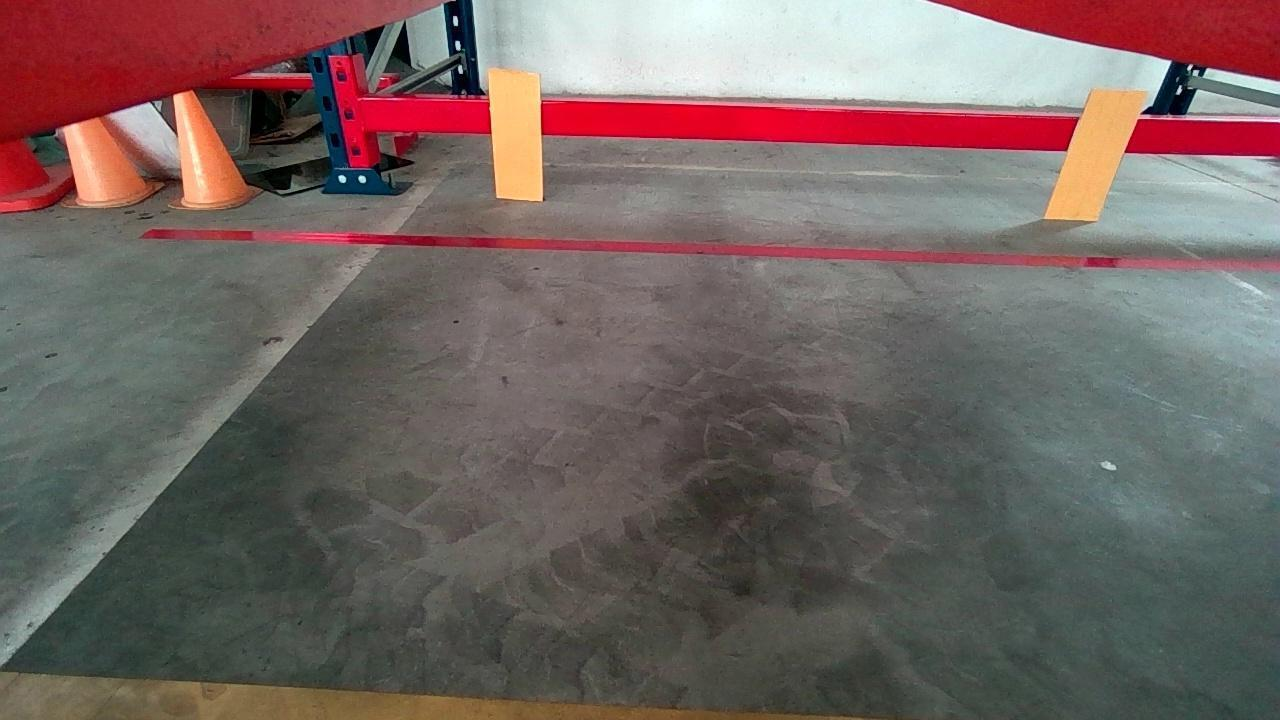h_rack: (360, 100, 1278, 158)
orange_strip: (1047, 86, 1148, 221), (491, 69, 541, 197)
red_line: (142, 225, 1280, 272)
yellow_line: (1, 671, 865, 720)
